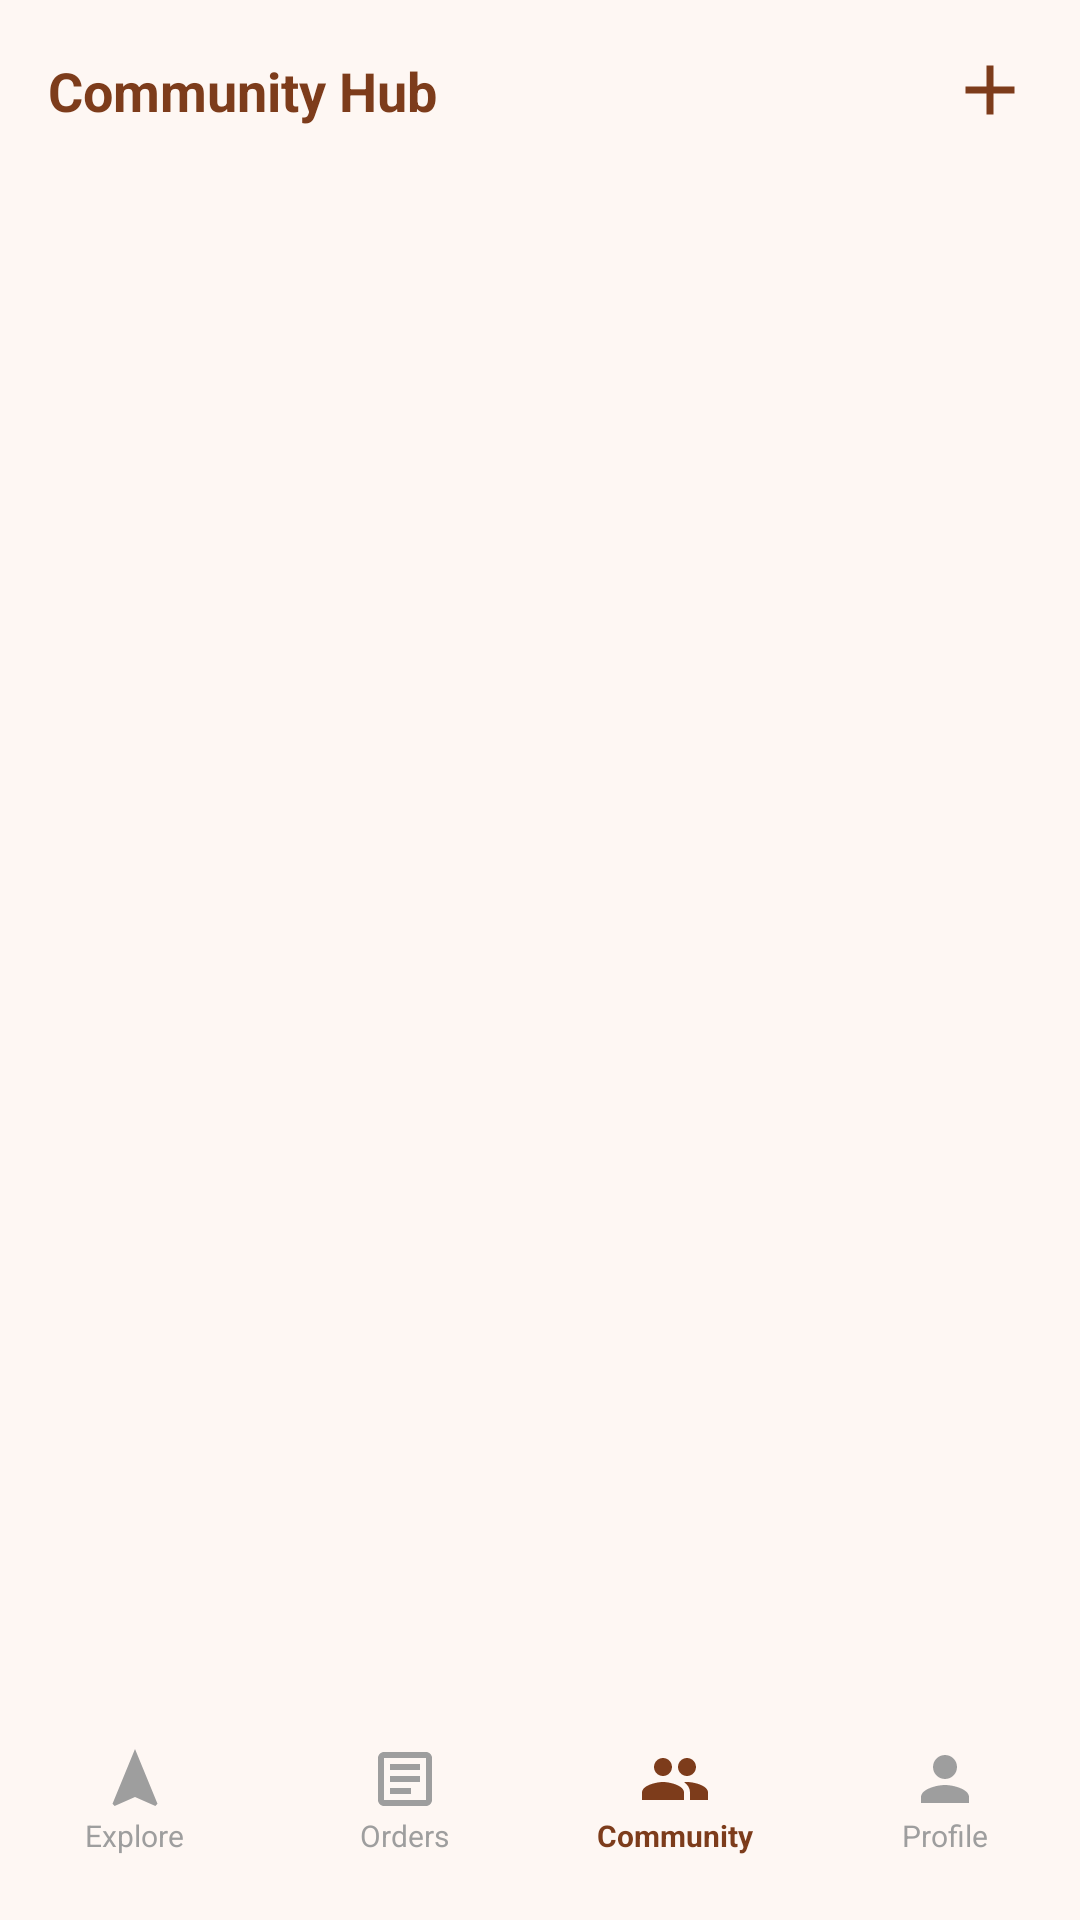

Named icons in this screenshot (1080w x 1920h) and their centers, [x,y]:
add: [990,90]
